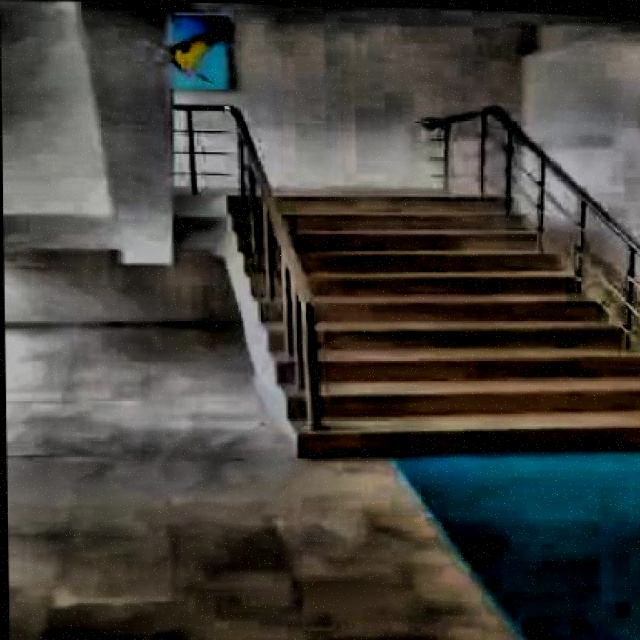stair: (211, 189, 638, 463)
